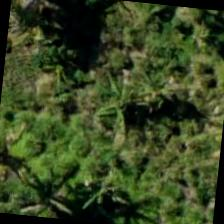Kelapa_Sawit: (0, 114, 48, 210)
